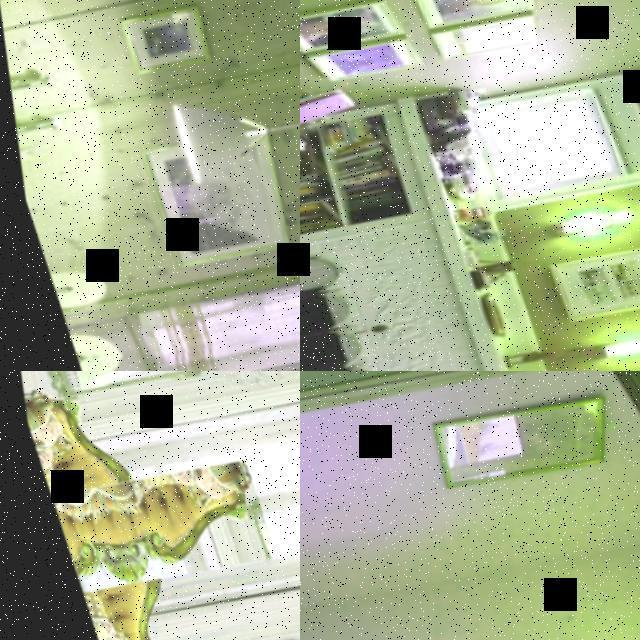couch: (39, 460, 239, 584)
